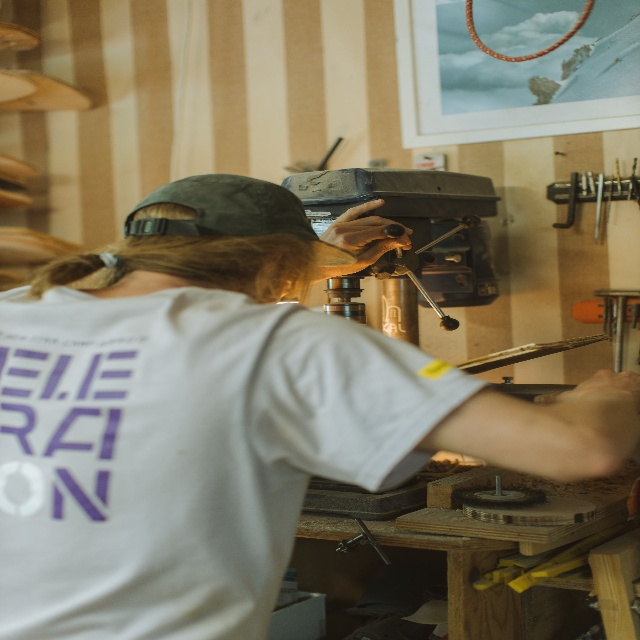Sin_guantes: (555, 361, 640, 487), (316, 197, 414, 279)
